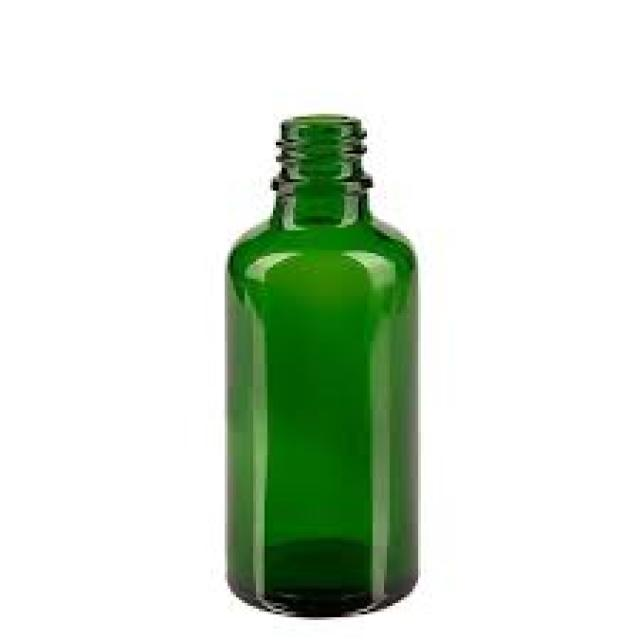glass: (219, 111, 415, 617)
